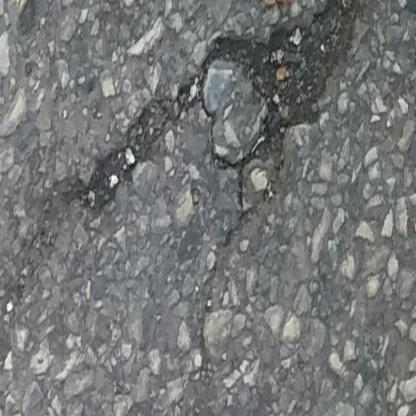Cracks: (36, 0, 372, 228)
